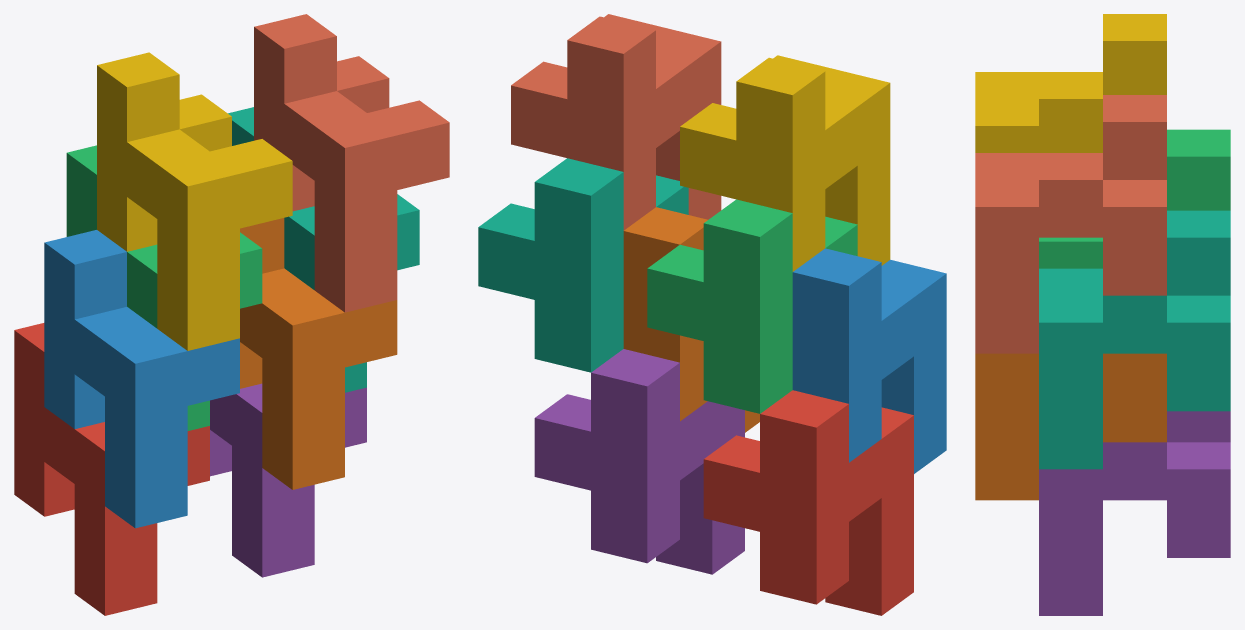
The model's file is tiling.obj.
3 views of the same model, side by side, from view 1: azimuth 30°, elevation 25°; view 2: azimuth 150°, elevation 25°; view 3: azimuth 270°, elevation 25° (orthographic). The views are drawn at different scales.
Parts seen in each view (by area): view 1: copy_1_domain_4, copy_1_domain_8, copy_1_domain_2, copy_1_domain_6, copy_1_domain_1, copy_1_domain_5, copy_1_domain_3, copy_1_domain_7; view 2: copy_1_domain_1, copy_1_domain_4, copy_1_domain_5, copy_1_domain_8, copy_1_domain_2, copy_1_domain_3, copy_1_domain_7, copy_1_domain_6; view 3: copy_1_domain_8, copy_1_domain_7, copy_1_domain_5, copy_1_domain_4, copy_1_domain_6, copy_1_domain_3.
Boxes of the visible parts, box(x1,y1,x2,y2) form: copy_1_domain_4: box(97, 52, 292, 350); copy_1_domain_8: box(254, 14, 449, 312); copy_1_domain_2: box(44, 230, 239, 528); copy_1_domain_6: box(240, 218, 397, 489); copy_1_domain_1: box(14, 323, 209, 615); copy_1_domain_5: box(210, 383, 366, 577); copy_1_domain_3: box(66, 145, 262, 430); copy_1_domain_7: box(228, 107, 419, 392); copy_1_domain_1: box(703, 390, 913, 615); copy_1_domain_4: box(680, 55, 890, 271); copy_1_domain_5: box(534, 349, 744, 574); copy_1_domain_8: box(511, 14, 721, 230); copy_1_domain_2: box(792, 248, 946, 473); copy_1_domain_3: box(647, 199, 857, 413); copy_1_domain_7: box(478, 158, 688, 372); copy_1_domain_6: box(623, 207, 759, 432); copy_1_domain_8: box(975, 95, 1166, 353); copy_1_domain_7: box(1039, 210, 1230, 469); copy_1_domain_5: box(1039, 411, 1230, 615); copy_1_domain_4: box(975, 14, 1166, 152); copy_1_domain_6: box(975, 353, 1166, 500); copy_1_domain_3: box(1039, 129, 1230, 268).
Bounding box in the file's own units: 6 × 9 × 4.
